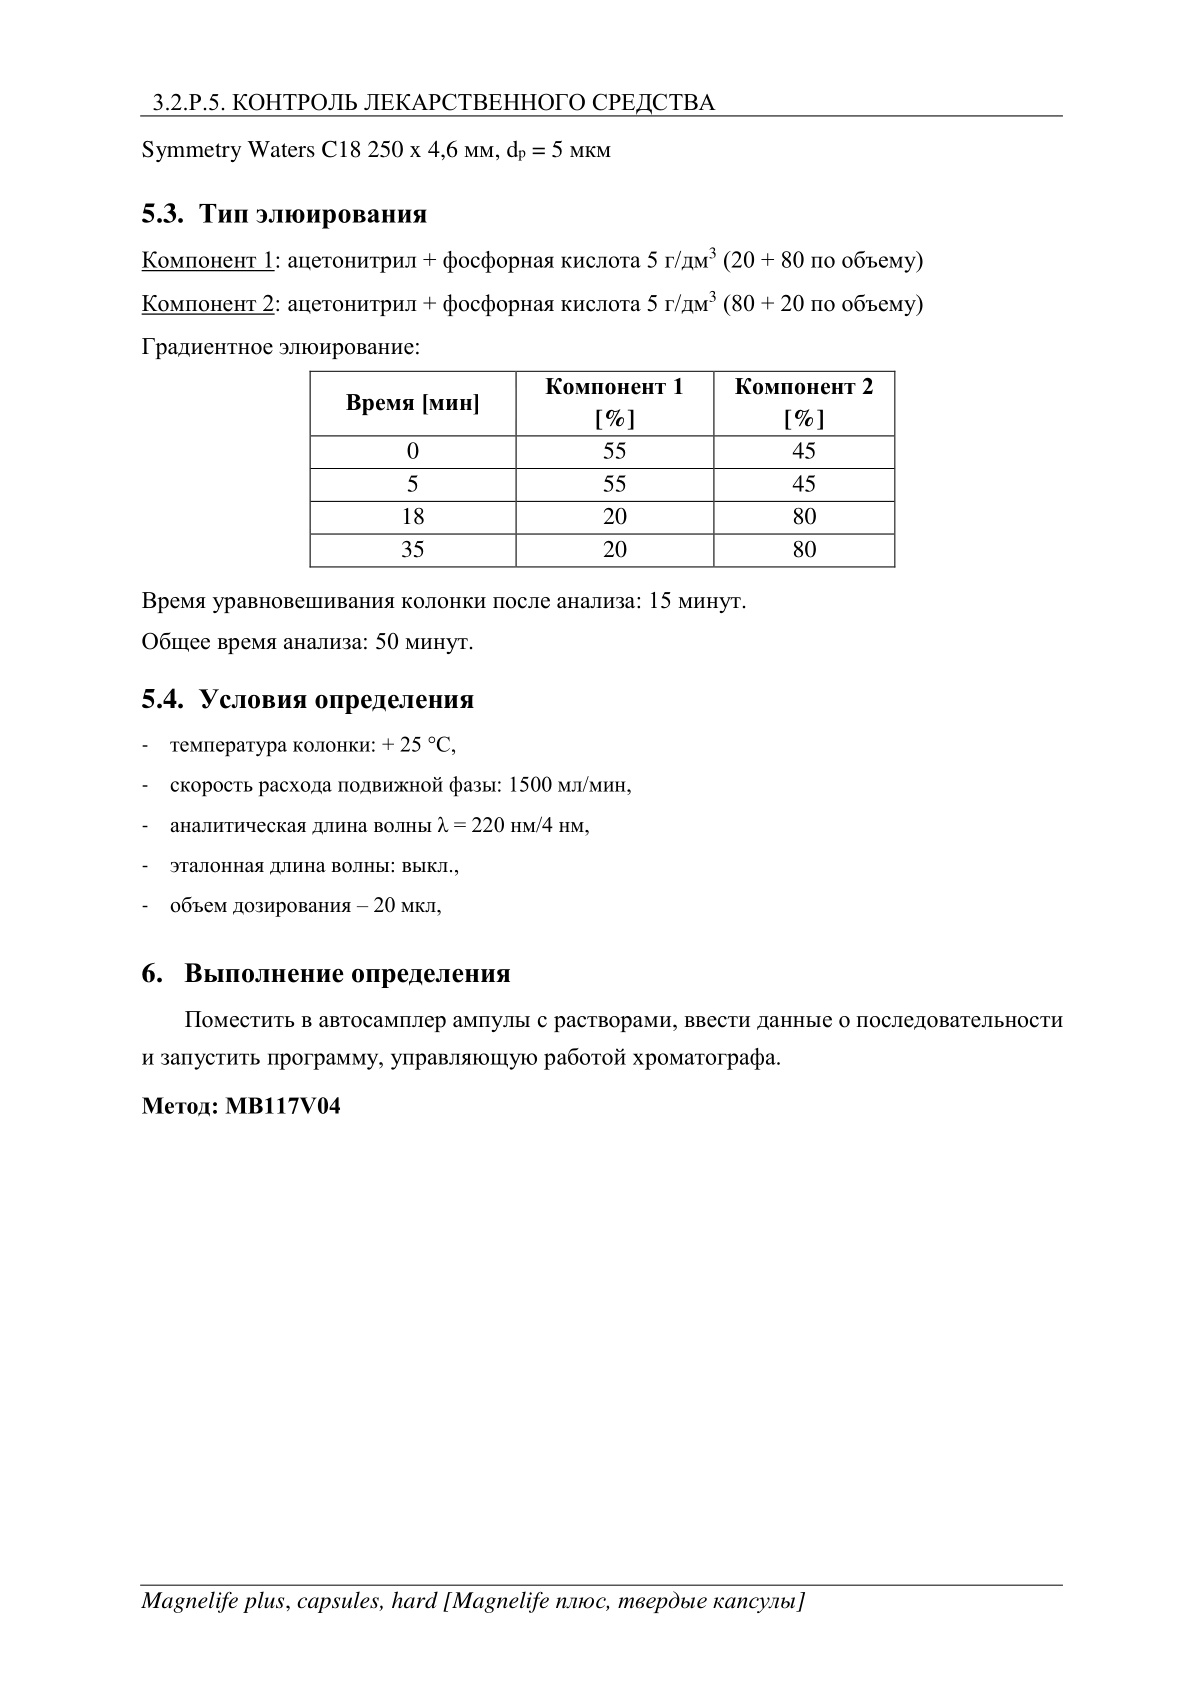full_lined: (309, 368, 897, 569)
